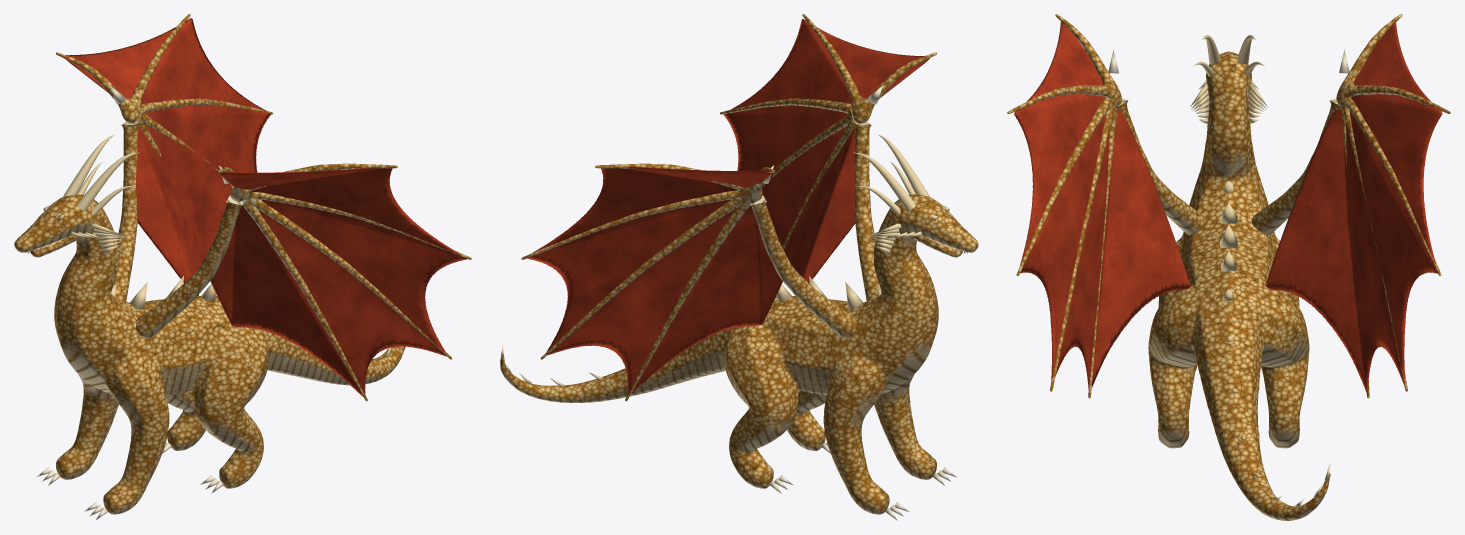
Rendered from GoldenDragon.fbx.
3 views of the same model, side by side, from view 1: azimuth 30°, elevation 25°; view 2: azimuth 150°, elevation 25°; view 3: azimuth 270°, elevation 25° (orthographic). The views are drawn at different scales.
Parts seen in each view (by area): view 1: WingL, DragonBody, WingR, DragonDetails; view 2: DragonBody, WingR, WingL, DragonDetails; view 3: DragonBody, WingL, WingR, DragonDetails.
Part boxes in pixels (x1,y1,x2,y2): WingL: (136,163,471,401); DragonBody: (14,194,405,514); WingR: (56,14,272,301); DragonDetails: (25,86,391,520); DragonBody: (500,194,978,514); WingR: (521,163,856,401); WingL: (720,14,936,301); DragonDetails: (500,86,967,520); DragonBody: (1148,51,1330,520); WingL: (1007,14,1206,398); WingR: (1251,14,1450,398); DragonDetails: (1108,35,1349,507).
Bounding box in the file's own units: 11.03 × 9.1 × 9.22.
4 materials, 4 textured.
